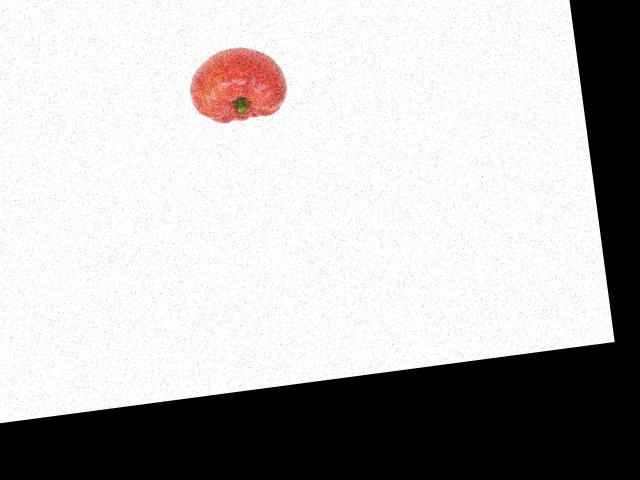tomato: (184, 42, 289, 125)
